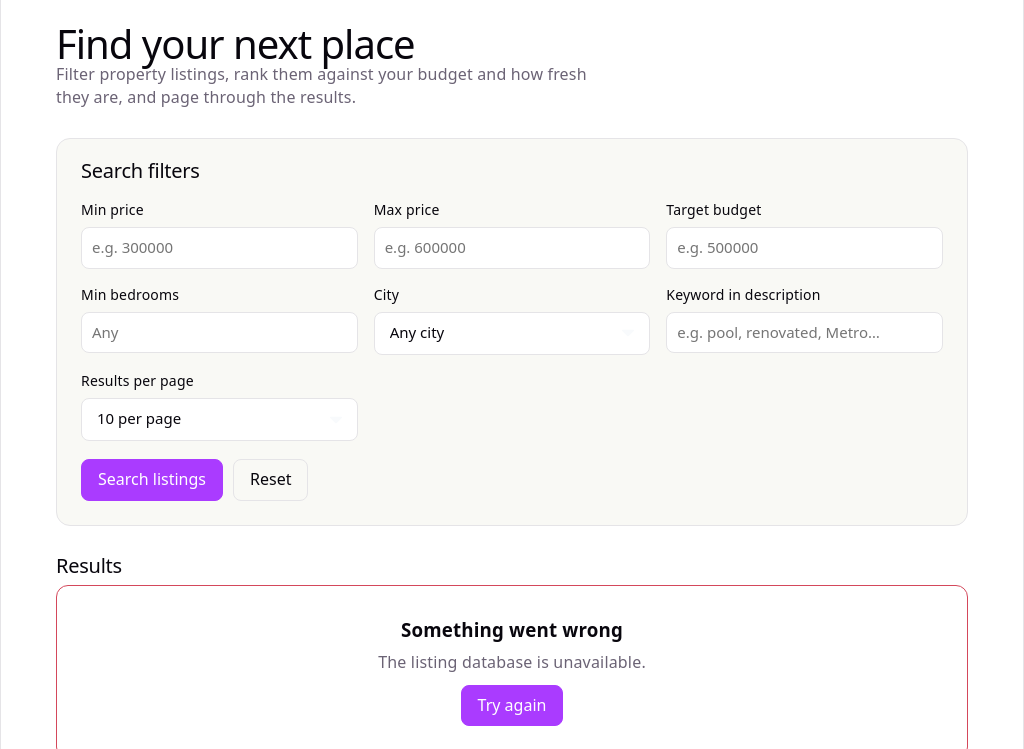
Test case: App — empty, out-of-range, and error states › shows an error card with retry that recovers on the next attempt
Expected: the heading "Something went wrong" is shown, [401,618,623,641]
Expected: the text "The listing database is unavailable." is shown, [378,651,646,675]
Click the button "Try again": click(512, 705) [461,685,563,726]
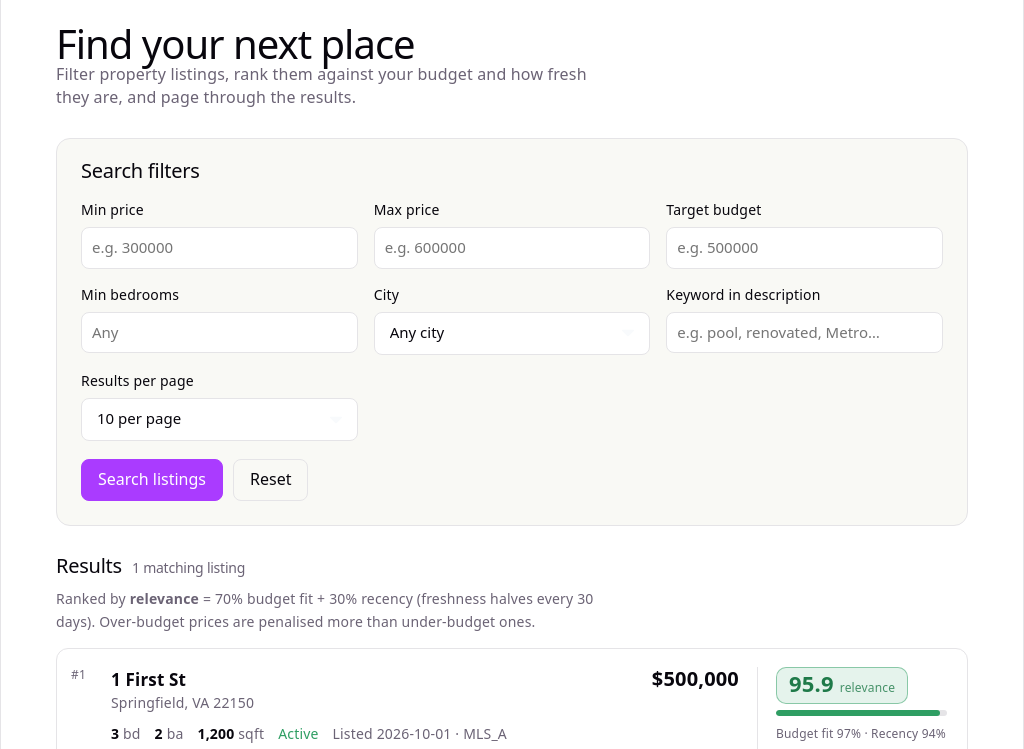
Expected: the text "1 First St" is shown, [111,668,186,691]
Expected: the heading "Something went wrong" is gone
